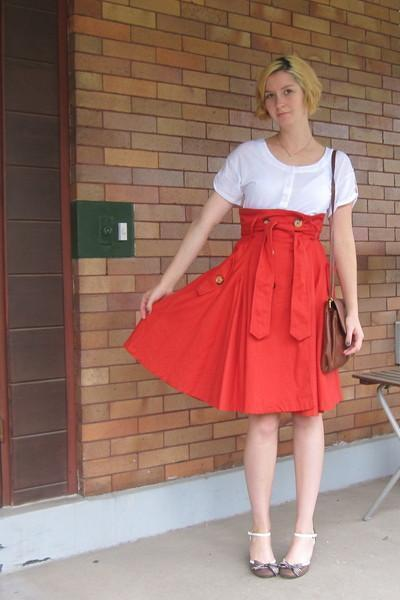bag: (320, 180, 351, 374)
dress: (125, 139, 357, 416)
shoe: (245, 553, 307, 579)
